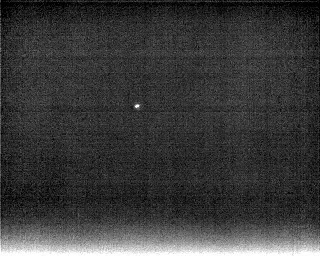BIRD: (132, 101, 142, 111)
